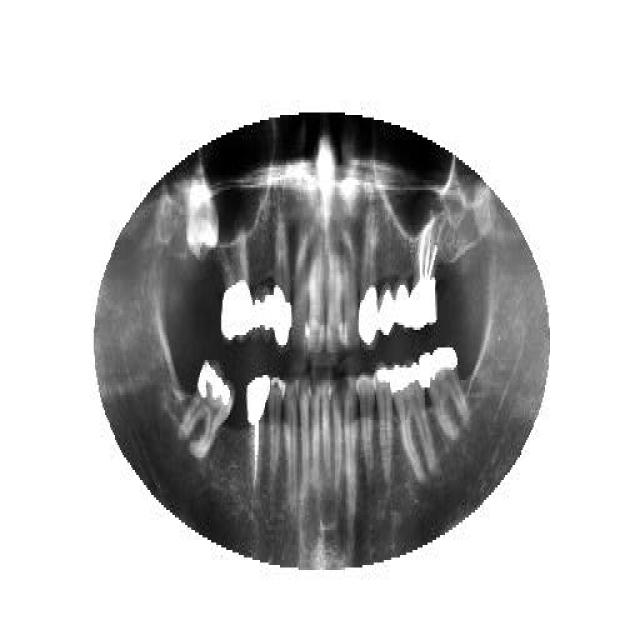Fillings: (180, 355, 235, 465), (391, 360, 434, 478), (419, 345, 469, 437), (218, 222, 252, 340), (270, 208, 292, 348), (358, 197, 377, 345), (374, 362, 394, 482), (394, 265, 408, 333), (378, 275, 393, 337), (262, 262, 272, 338), (252, 275, 262, 340)
Implant: (408, 212, 443, 330), (246, 370, 270, 490)
